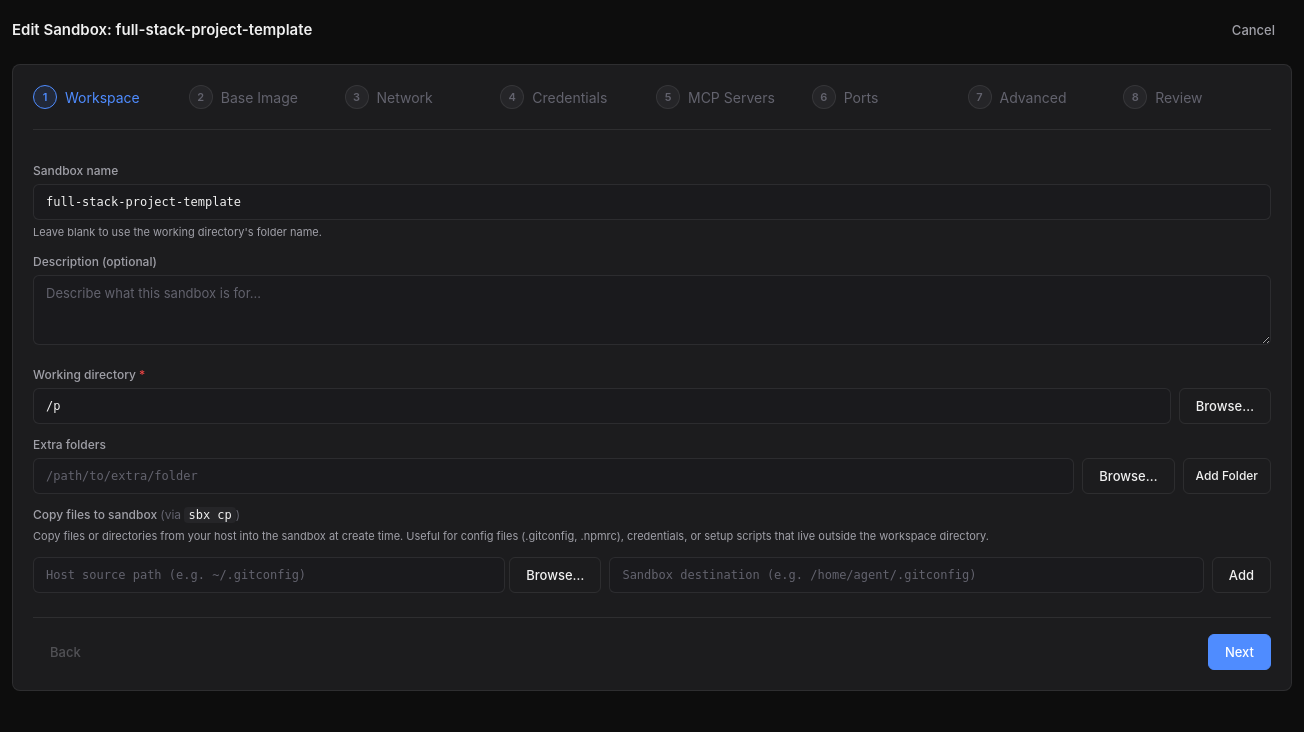
Test: CreateDefinition wizard › blocks navigation and does not save when the working directory is cleared (edit mode)
Clear the field named "workspace" at (602, 406), box [33,388,1171,424]
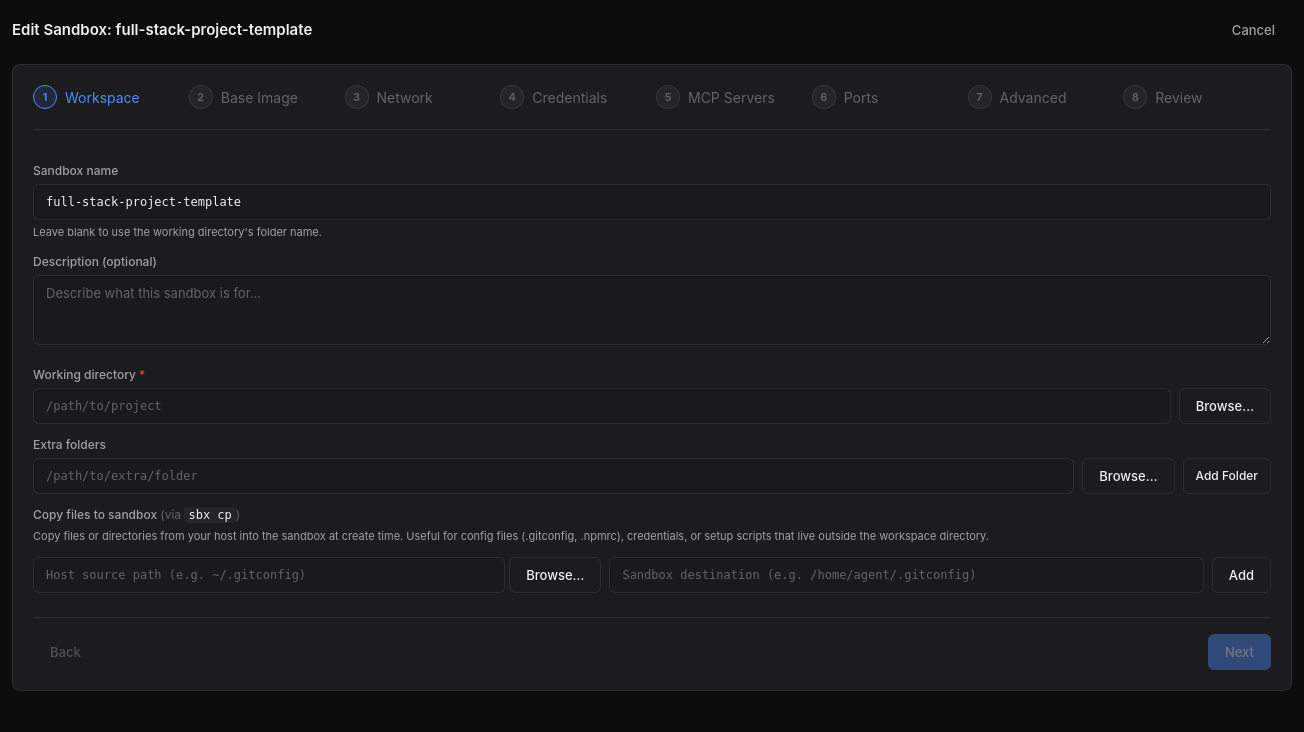
Click the button "8 Review" at (1197, 97), box [1123,85,1271,109]
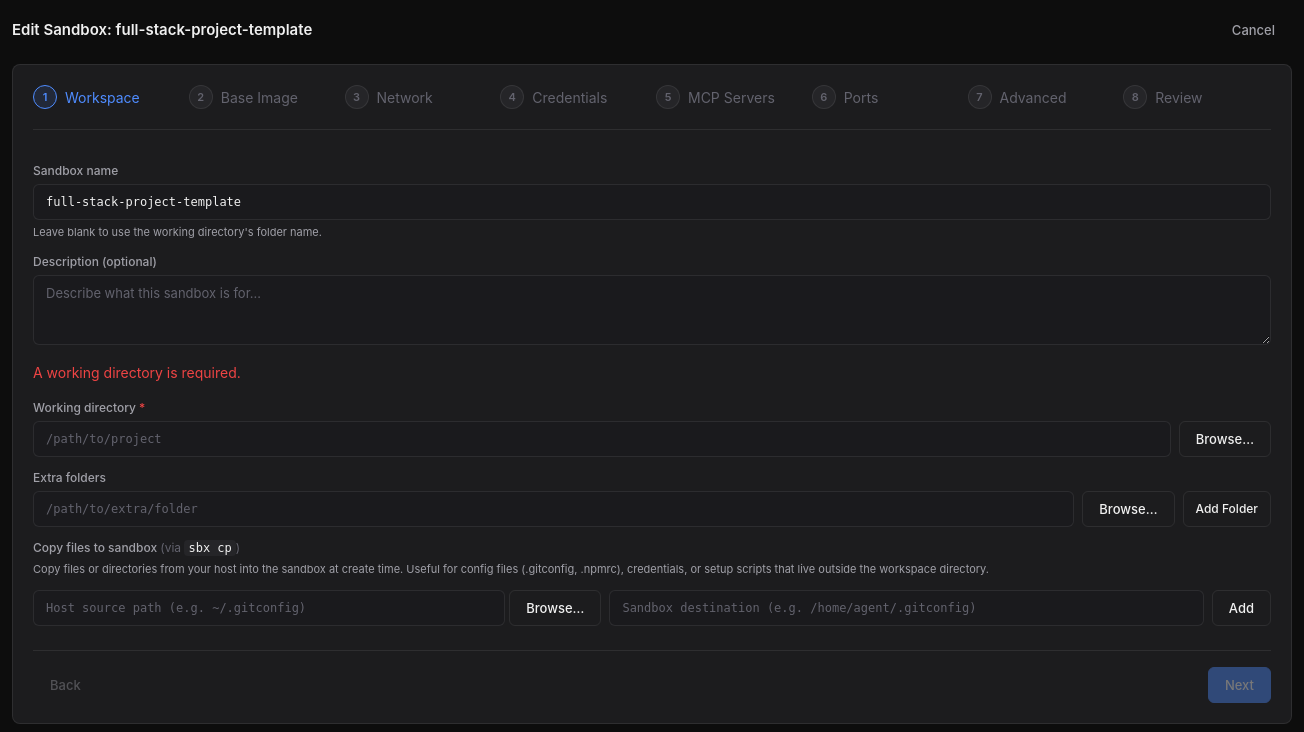
Result: the text "A working directory is required." is shown at [33,364,241,381]
